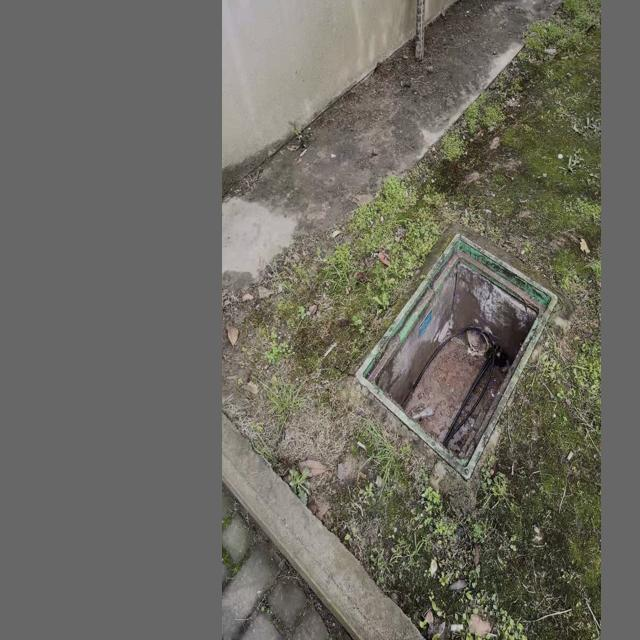lose: (357, 233, 556, 479)
